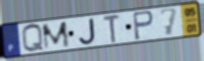7: (158, 7, 179, 38)
J: (77, 17, 97, 46)
M: (40, 20, 72, 52)
P: (131, 9, 155, 41)
Q: (20, 23, 45, 54)
T: (102, 14, 122, 44)
